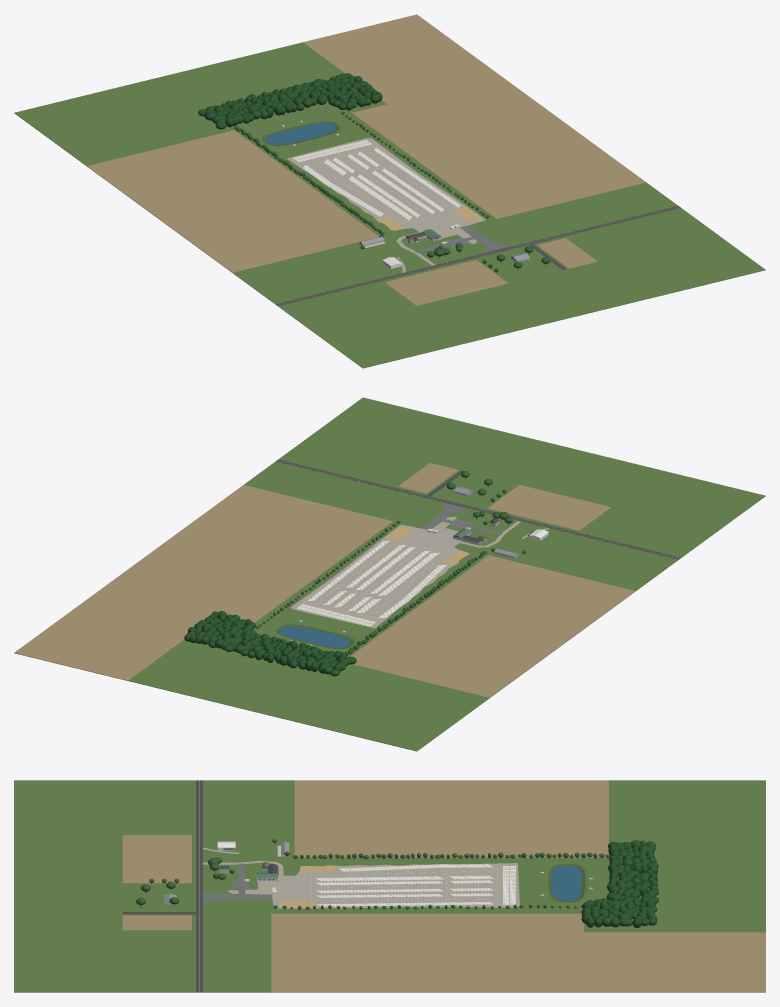
Rendered from transport_us_lot.glb.
3 views of the same model, one above another, from view 1: azimuth 30°, elevation 25°; view 2: azimuth 150°, elevation 25°; view 3: azimuth 270°, elevation 25° (orthographic). The views are drawn at different scales.
Visible parts, largest first — view 1: ground, surf_field_e, surf_field_w, surf_gravel_lot, trees_woods, surf_field_sw, surf_cr38, surf_field_se, basin_water, trees_west_hedge; view 2: ground, surf_field_e, surf_field_w, surf_gravel_lot, trees_woods, surf_field_sw, surf_cr38, surf_field_se, basin_water, trees_west_hedge; view 3: ground, surf_field_e, surf_field_w, surf_gravel_lot, trees_woods, surf_field_sw, surf_cr38, surf_field_se, trees_west_hedge, basin_water, trees_yard, trees_east_hedge (+2 smaller).
Boxes of the visible parts, x1,y1,x2,y2 form: ground: (14, 42, 765, 368); surf_field_e: (303, 14, 646, 218); surf_field_w: (87, 130, 379, 272); surf_gravel_lot: (287, 138, 485, 238); trees_woods: (198, 73, 382, 129); surf_field_sw: (385, 260, 508, 305); surf_cr38: (276, 205, 680, 306); surf_field_se: (537, 238, 597, 268); basin_water: (264, 123, 336, 144); trees_west_hedge: (234, 126, 384, 234); ground: (14, 397, 765, 751); surf_field_e: (14, 485, 392, 680); surf_field_w: (350, 555, 635, 697); surf_gravel_lot: (290, 521, 468, 628); trees_woods: (184, 611, 356, 676); surf_field_sw: (487, 485, 610, 530); surf_cr38: (275, 459, 680, 559); surf_field_se: (398, 463, 458, 493); basin_water: (278, 626, 350, 647); trees_west_hedge: (345, 551, 487, 655); ground: (14, 780, 765, 992); surf_field_e: (271, 913, 765, 992); surf_field_w: (294, 780, 608, 857); surf_gravel_lot: (245, 863, 519, 908); trees_woods: (581, 840, 658, 927); surf_field_sw: (122, 835, 191, 883); surf_cr38: (196, 780, 202, 992); surf_field_se: (122, 915, 191, 930); trees_west_hedge: (293, 852, 610, 858); basin_water: (551, 866, 581, 901); trees_yard: (136, 839, 289, 904); trees_east_hedge: (273, 904, 582, 909).
Bounding box in the file's own units: 600 × 18.5 × 900.
